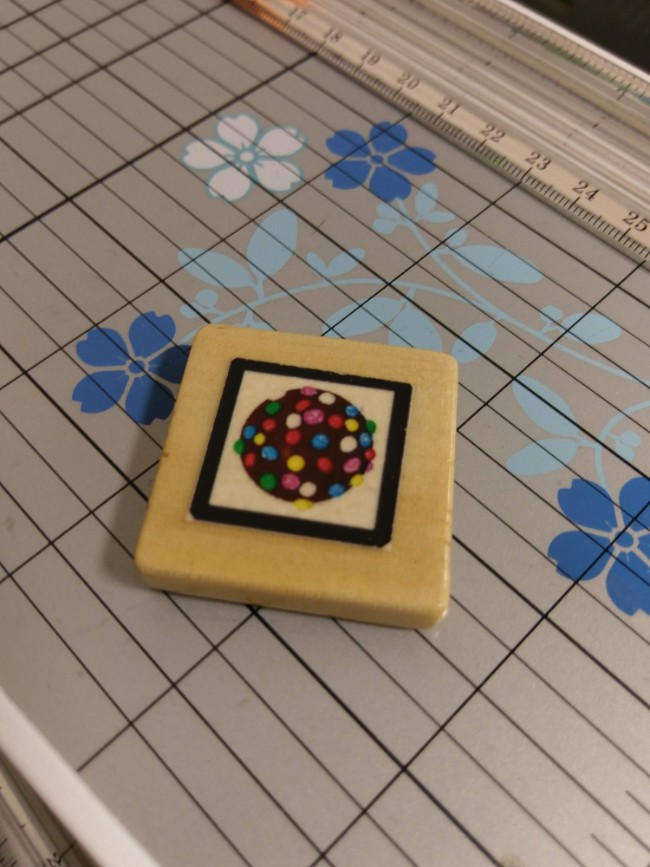cookie: (178, 350, 416, 563)
